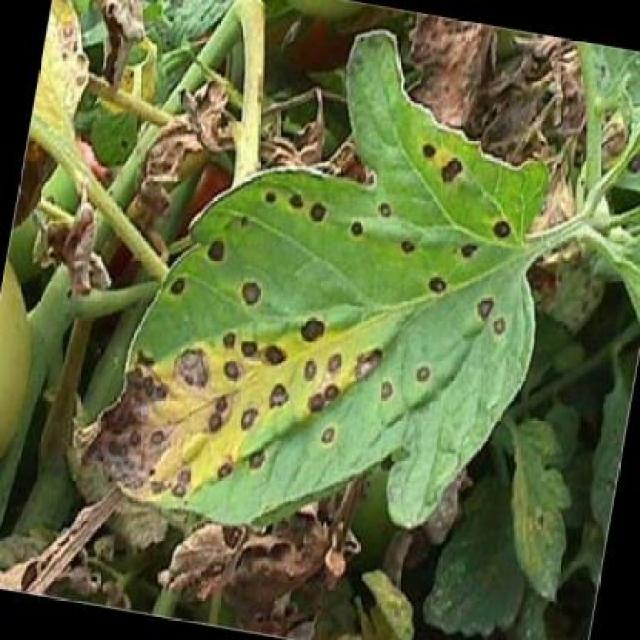Septoria leaf spot: (46, 0, 600, 591)
